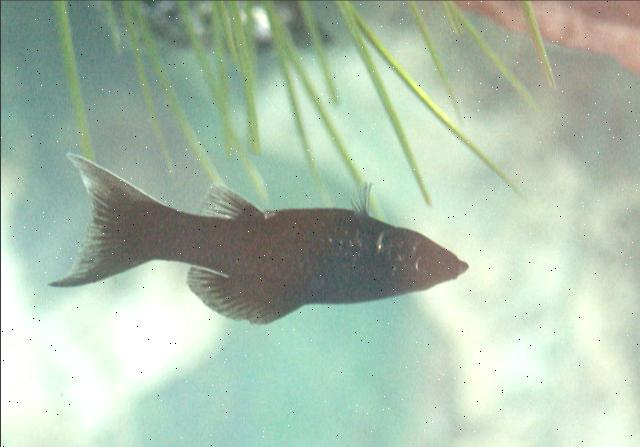Mulut: (442, 232, 486, 298)
Sirip Anal: (188, 170, 270, 238)
Sirip Ekor: (42, 133, 166, 299)
Sirip Perut: (333, 167, 383, 229)
Sirip Punggung: (180, 258, 306, 340)
